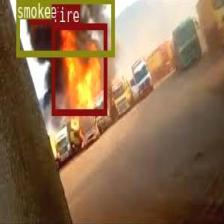fire: (51, 22, 107, 114), (28, 0, 49, 22)
smoke: (15, 0, 113, 55)
